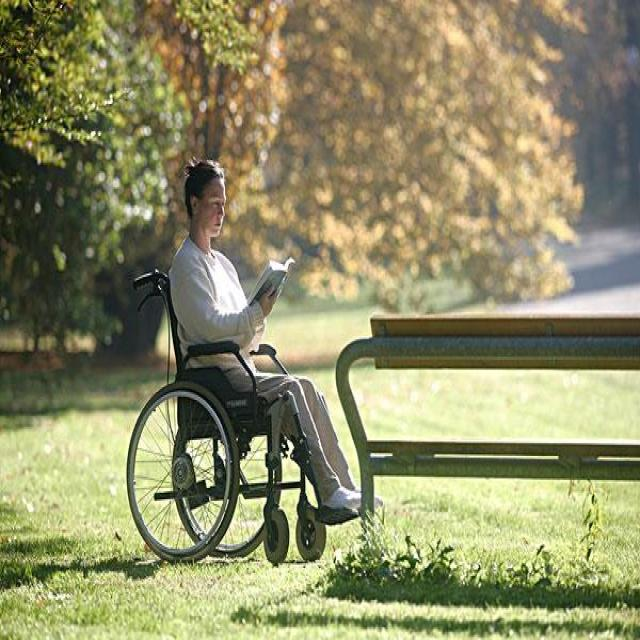wheelchairs: (120, 262, 334, 564)
